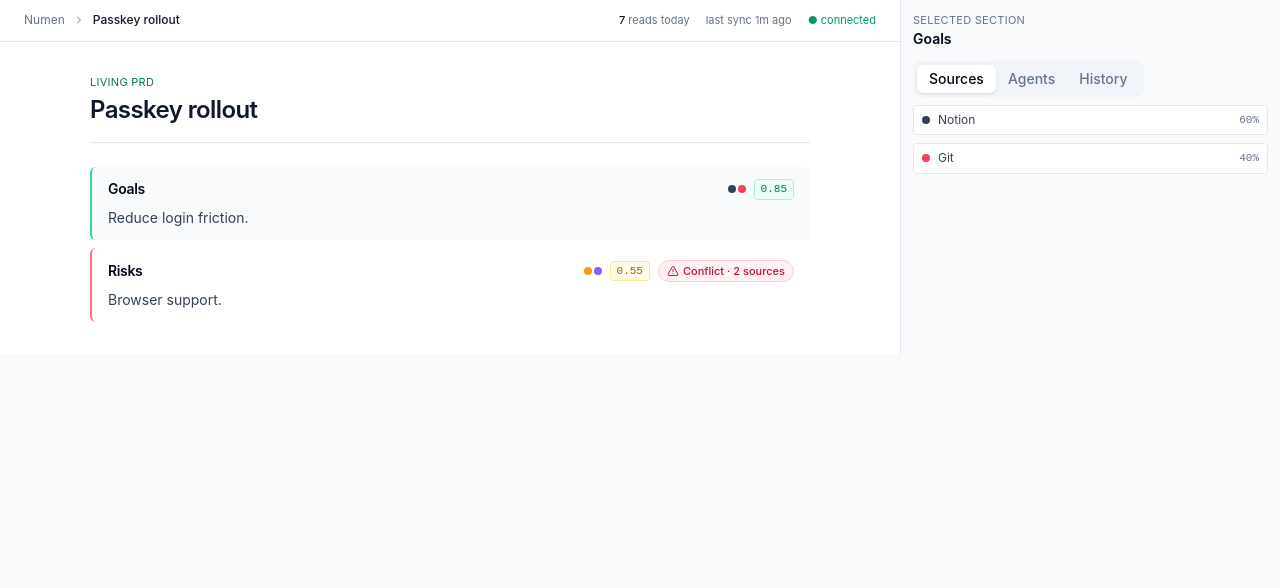
Test: LivingPrdView › selecting a section drives the right pane
Click the button with test id "section-s2" at (125, 270), box [90,248,810,322]
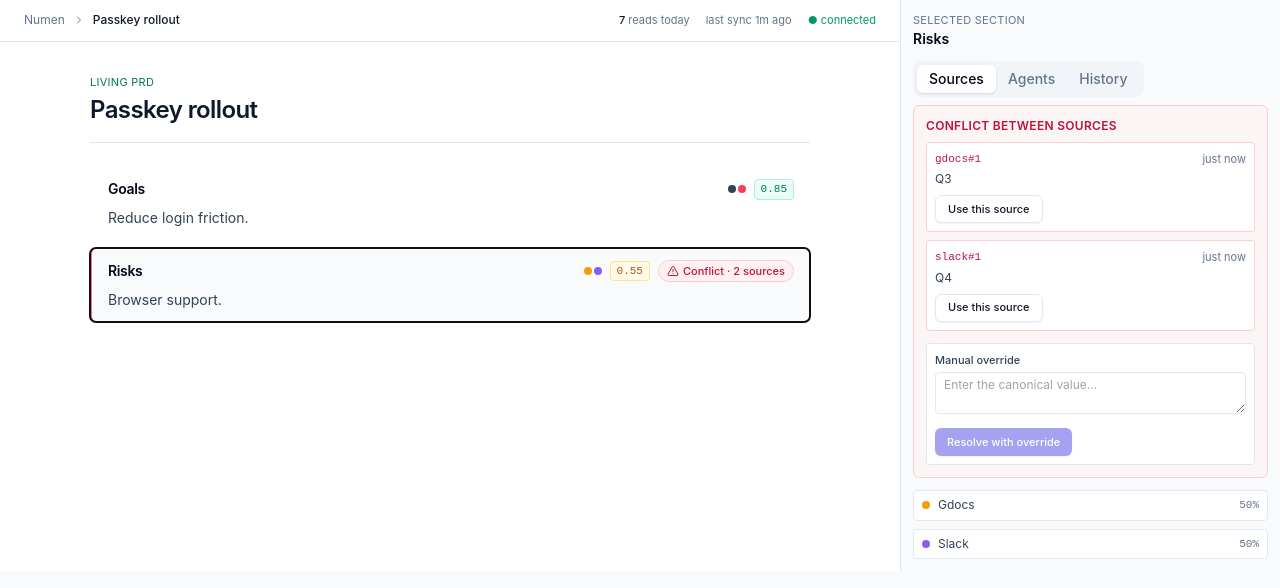
Expected: the element with test id "provenance-pane" shows "Risks", [913,30,949,46]
